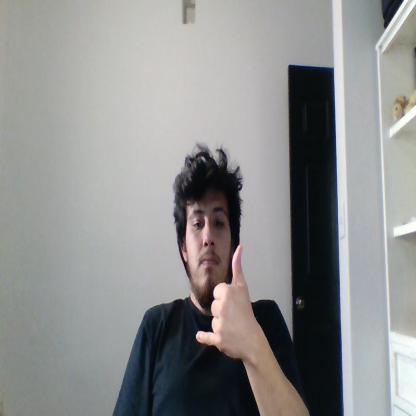Y: (195, 245, 257, 359)
